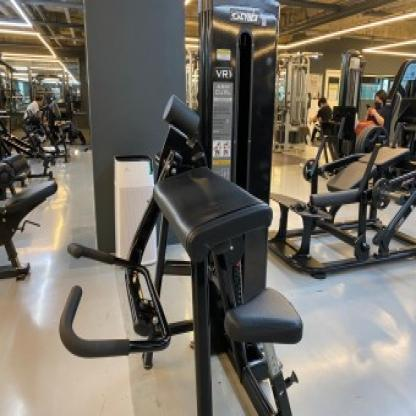arm curl machine: (57, 163, 301, 416)
